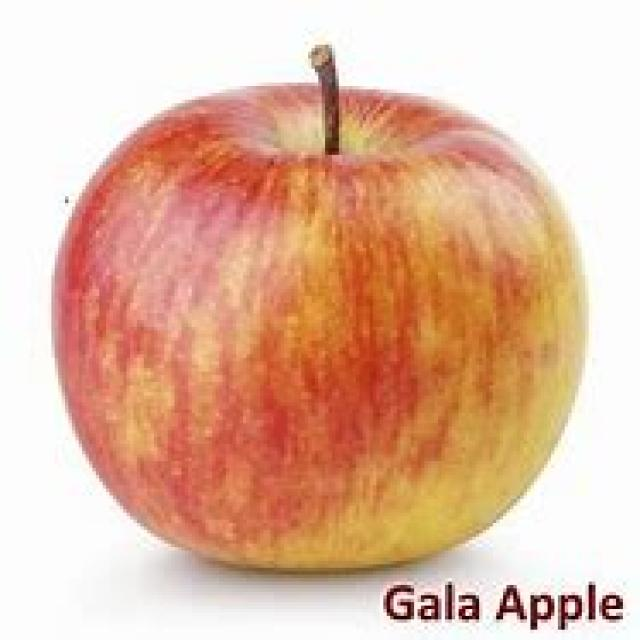apple: (47, 42, 589, 572)
